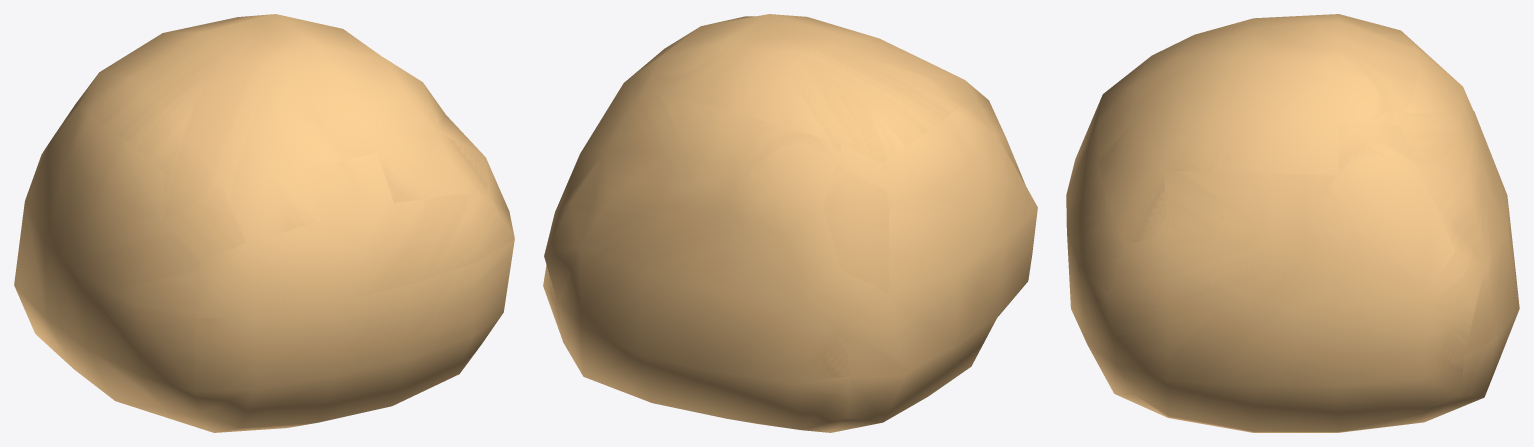
File: Dough.fbx
3 renders of one model, left to right at view 1: azimuth 30°, elevation 25°; view 2: azimuth 150°, elevation 25°; view 3: azimuth 270°, elevation 25°, orthographic.
Parts seen in each view (by area): view 1: Cube; view 2: Cube; view 3: Cube.
Boxes of the visible parts, left/top/right/bottom form: Cube: left=14, top=14, right=514, bottom=432; Cube: left=543, top=14, right=1037, bottom=432; Cube: left=1066, top=14, right=1519, bottom=432.
Bounding box in the file's own units: 21.5 × 18.02 × 21.24.
